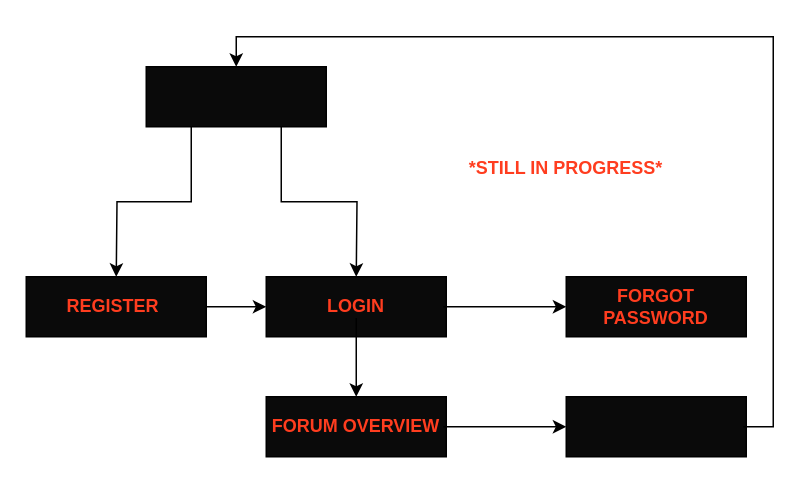
Some shapes in this 812 by 483 pixel diagram are drawn without their labels. The centre of each missing label's shape, as x and y in pixels:
GUEST PAGE: [235,96]
LOGOUT: [655,426]
